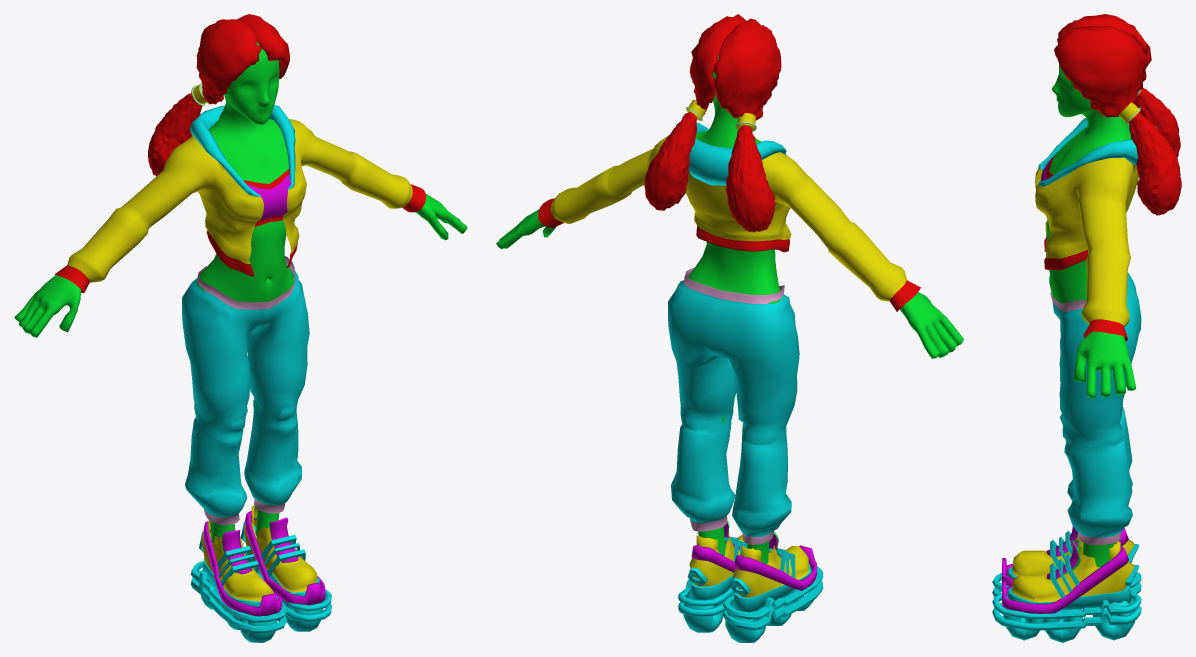
Rendered from JSRF.fbx.
3 views of the same model, side by side, from view 1: azimuth 30°, elevation 25°; view 2: azimuth 150°, elevation 25°; view 3: azimuth 270°, elevation 25° (orthographic). The views are drawn at different scales.
Parts seen in each view (by area): view 1: polySurface4.002; view 2: polySurface4.002; view 3: polySurface4.002.
Part boxes in pixels (x1,y1,x2,y2): polySurface4.002: (14,14,467,642); polySurface4.002: (496,14,963,642); polySurface4.002: (992,14,1181,642).
Bounding box in the file's own units: 945 × 1225 × 345.
